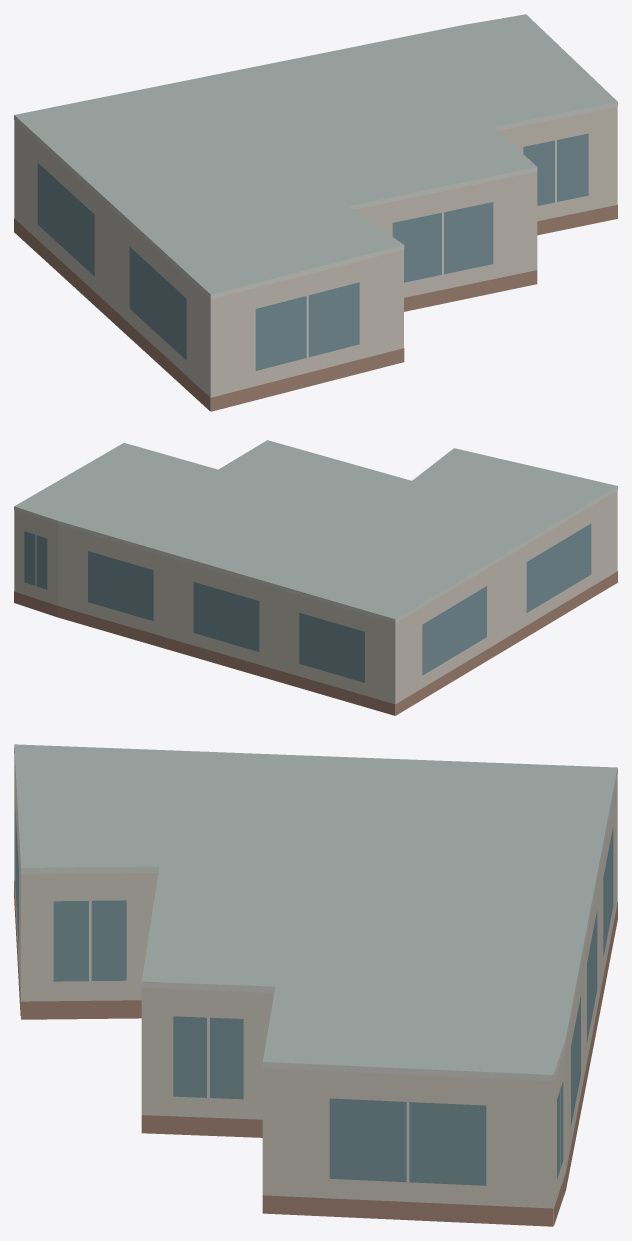
File: survey-upis-32595449.glb
The picture shows the model from 3 angles, top to bottom: view 1: azimuth 30°, elevation 25°; view 2: azimuth 150°, elevation 25°; view 3: azimuth 270°, elevation 25°; orthographic projection. The views are drawn at different scales.
Visible parts, largest first — view 1: survey-upis-32595449.tmp; view 2: survey-upis-32595449.tmp; view 3: survey-upis-32595449.tmp.
Part boxes in pixels (x1,y1,x2,y2): survey-upis-32595449.tmp: (14, 14, 617, 411); survey-upis-32595449.tmp: (14, 440, 617, 715); survey-upis-32595449.tmp: (14, 744, 617, 1226).
Bounding box in the file's own units: 14.28 × 3.05 × 11.02.
